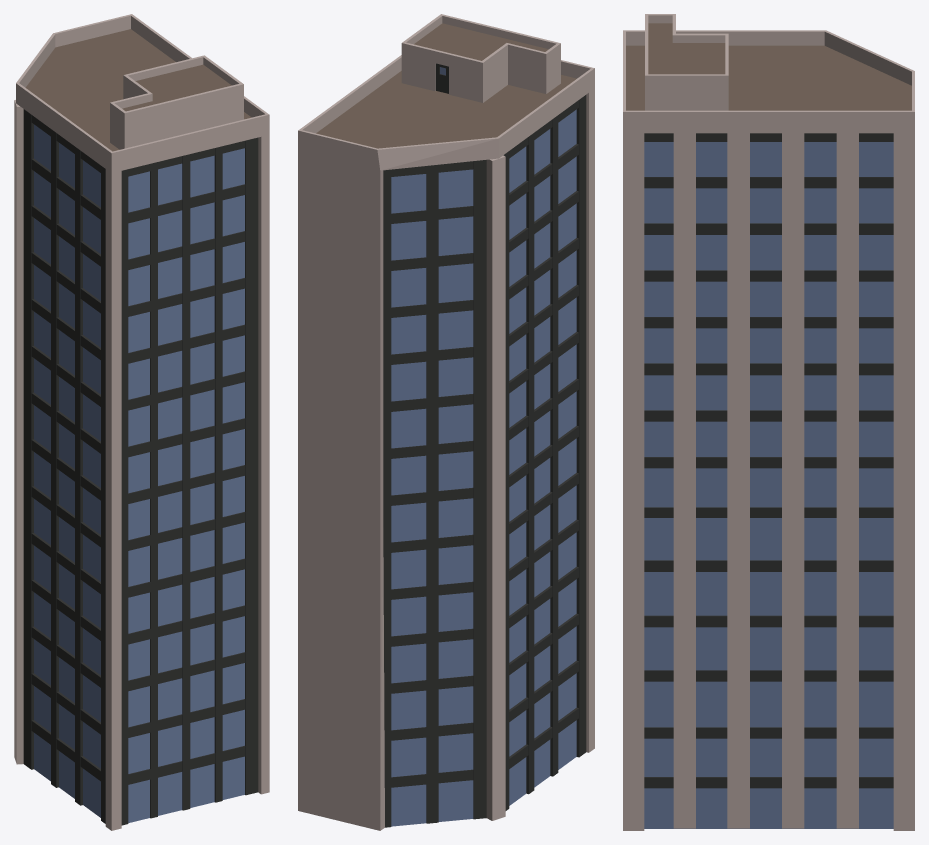
File: LargeBuilding_12.fbx
The picture shows the model from 3 angles, left to right: view 1: azimuth 30°, elevation 25°; view 2: azimuth 150°, elevation 25°; view 3: azimuth 270°, elevation 25°; orthographic projection. The views are drawn at different scales.
Parts seen in each view (by area): view 1: LargeBuilding_12; view 2: LargeBuilding_12; view 3: LargeBuilding_12.
Boxes of the visible parts, box(x1,y1,x2,y2) form: LargeBuilding_12: box(14, 14, 269, 830); LargeBuilding_12: box(298, 14, 594, 830); LargeBuilding_12: box(623, 14, 914, 830).
Bounding box in the file's own units: 15.25 × 63.74 × 22.57.
